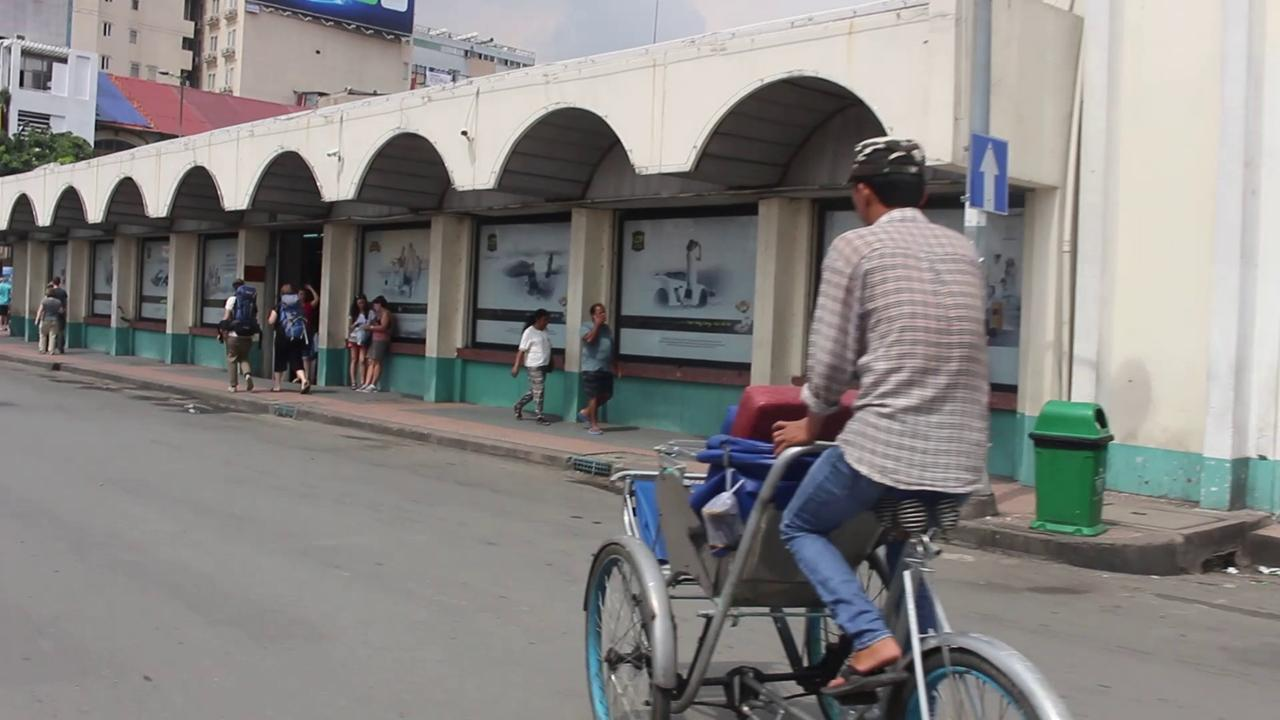P.124c: (968, 136, 1012, 224)
